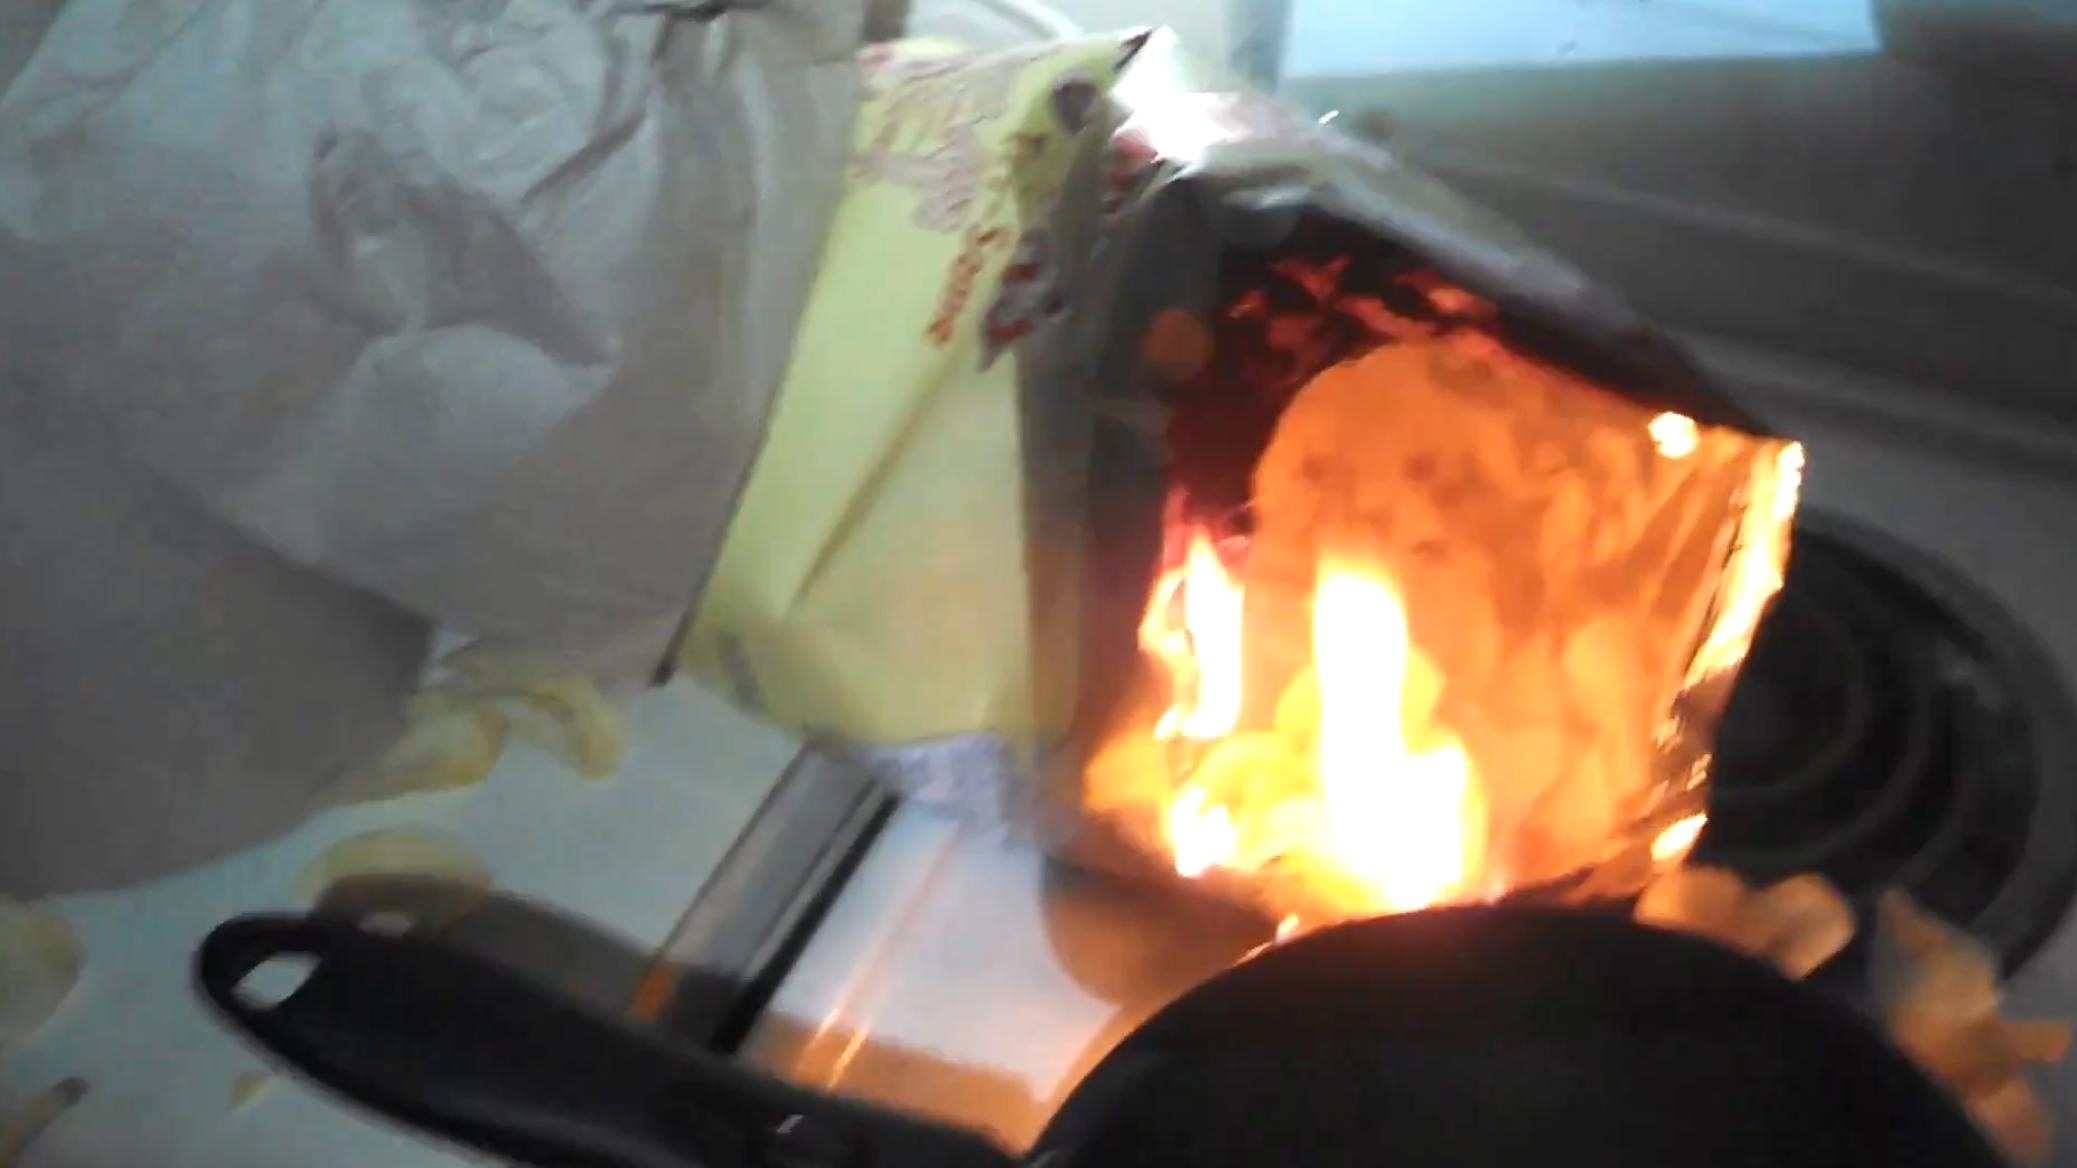fire: (1098, 519, 1501, 936)
